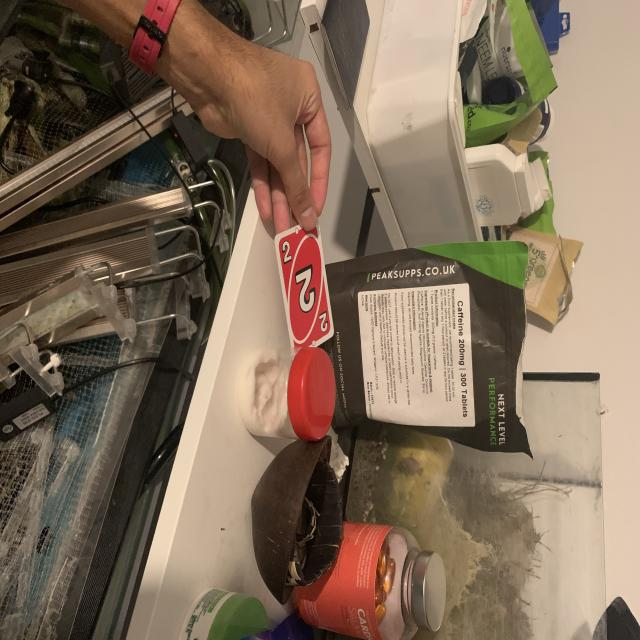lred-2: (278, 238, 298, 270)
